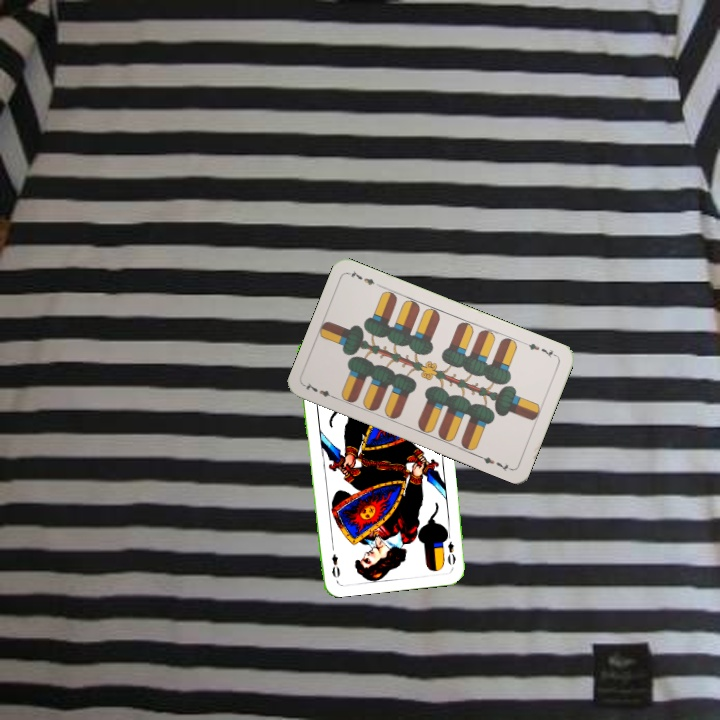E7: (301, 379, 339, 402), (520, 339, 560, 360)
EO: (441, 528, 458, 568)
